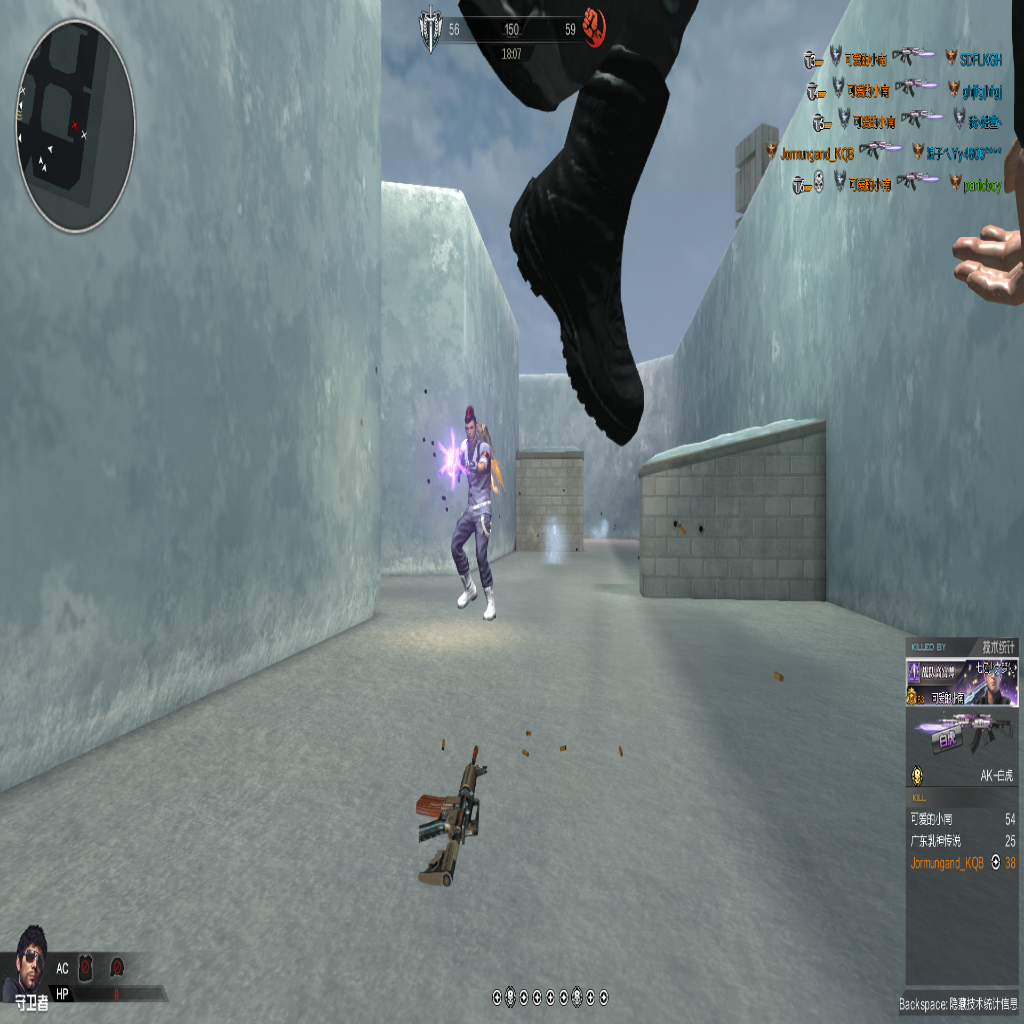tt: (447, 400, 499, 616)
